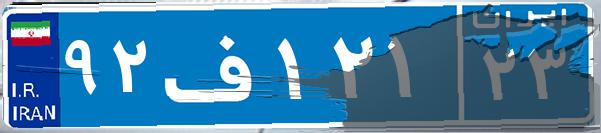1: (385, 28, 445, 110), (273, 28, 330, 110)
2: (330, 28, 385, 110), (475, 38, 525, 113), (110, 28, 158, 105)
3: (525, 38, 570, 115)
9: (57, 26, 110, 107)
ف: (158, 15, 273, 115)
